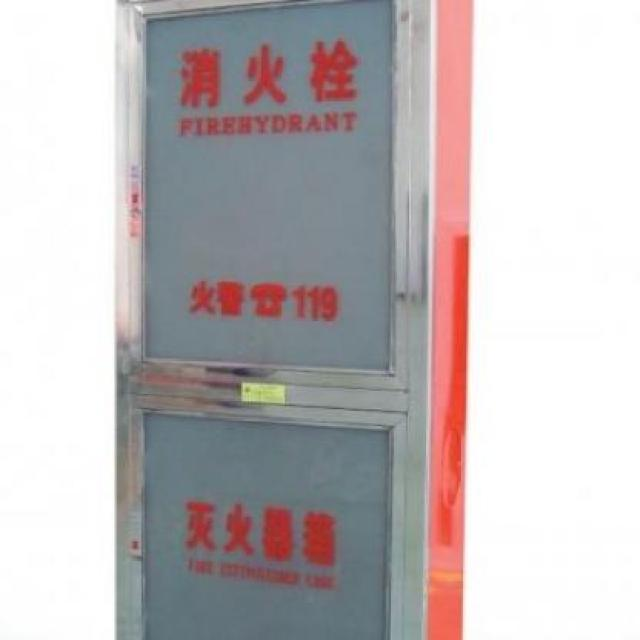firehydrant: (106, 0, 479, 640)
